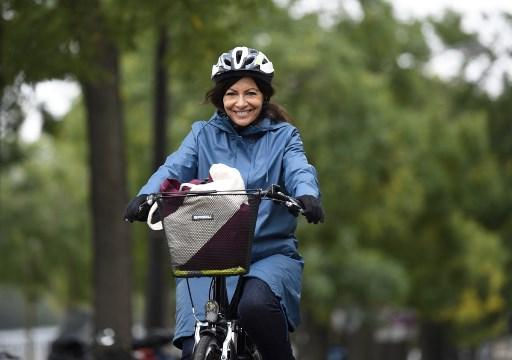helmet: (210, 46, 275, 126)
